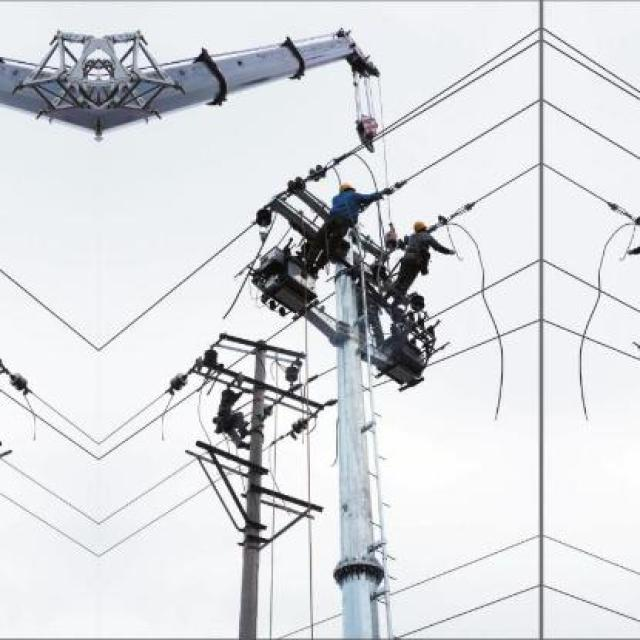helmet: (337, 177, 355, 201), (414, 216, 431, 239)
